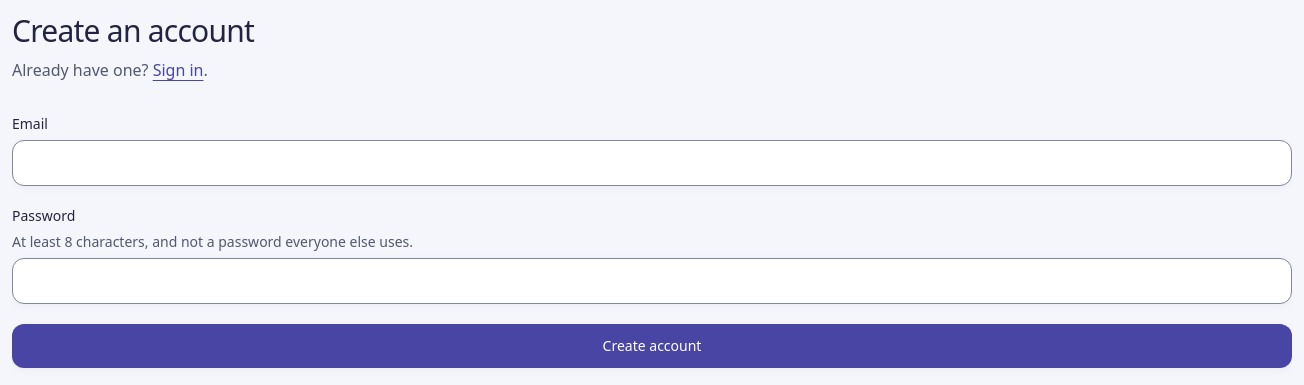
Test: the confirmation after a successful submission › is reading the confirmation and not an empty element
The image size is (1304, 385).
Type "learner@example.test" into the field labelled "Email" at coordinates (652, 162), box [12,140,1292,186]
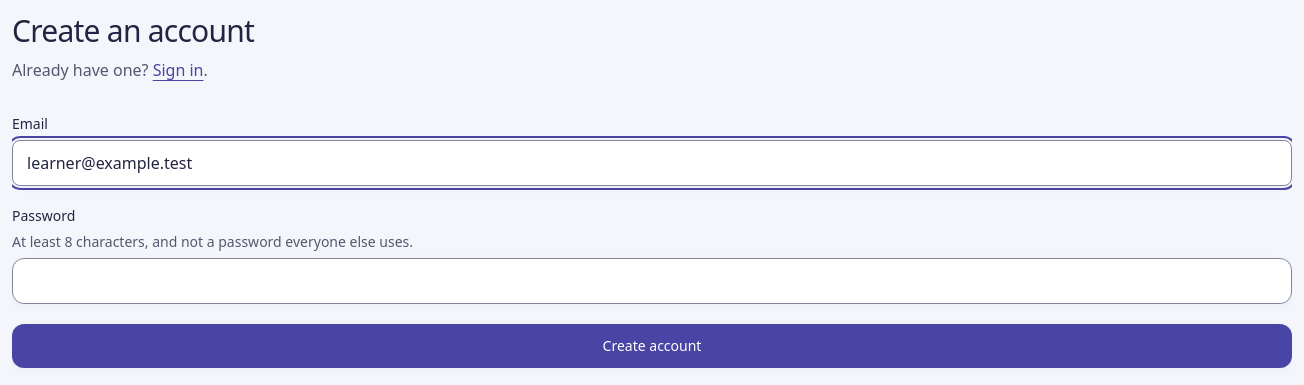
Type "a long enough password" into the password field labelled "Password" at coordinates (652, 280), box [12,258,1292,304]
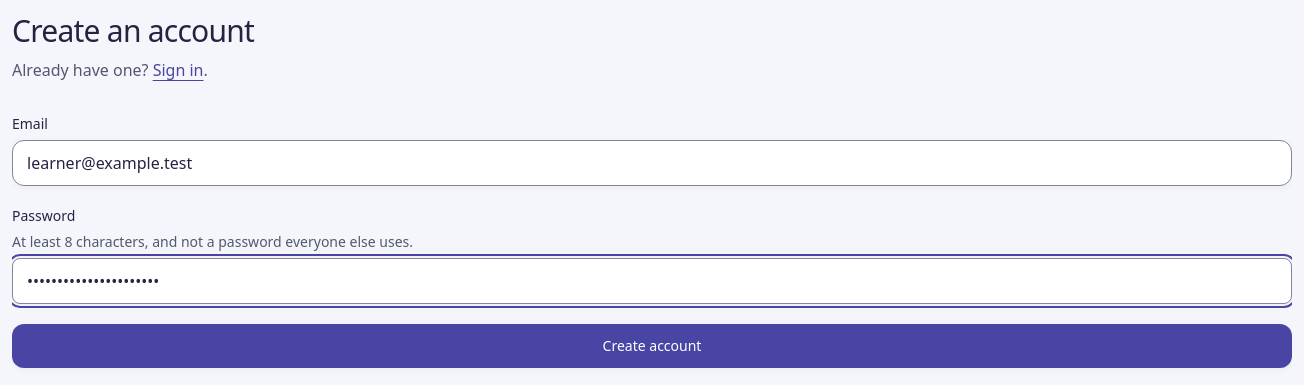
Click the button "Create account" at coordinates (652, 346), box [12,324,1292,368]
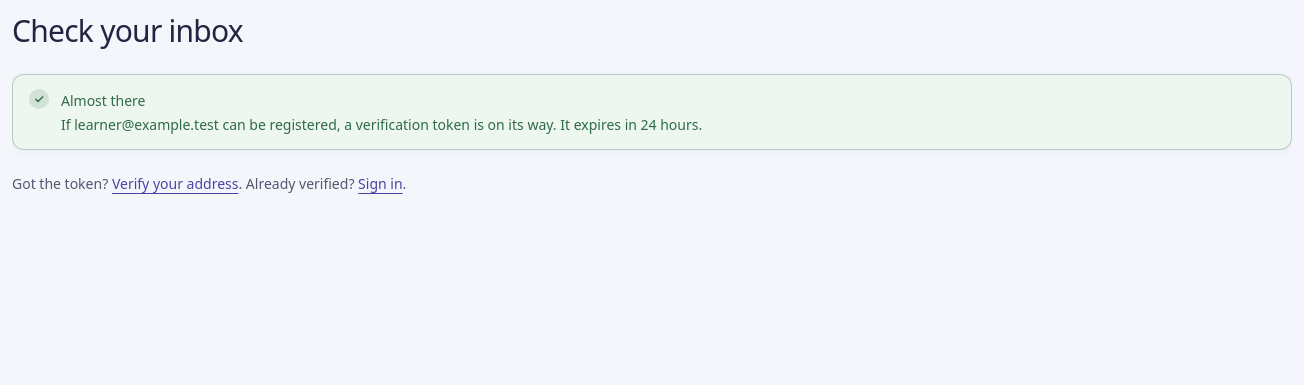
Expected: the text "learner@example.test" is shown, [74,114,219,134]
Expected: the message is shown, [12,74,1292,150]
